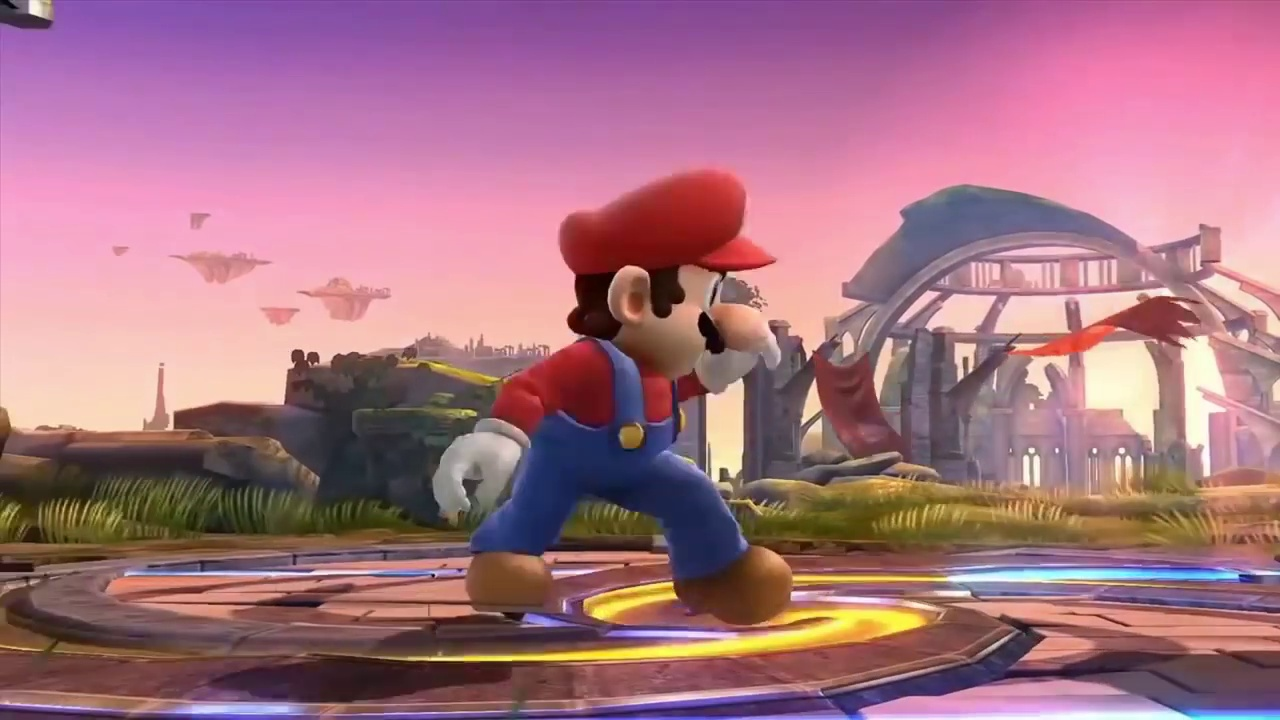Mario: (433, 170, 789, 624)
